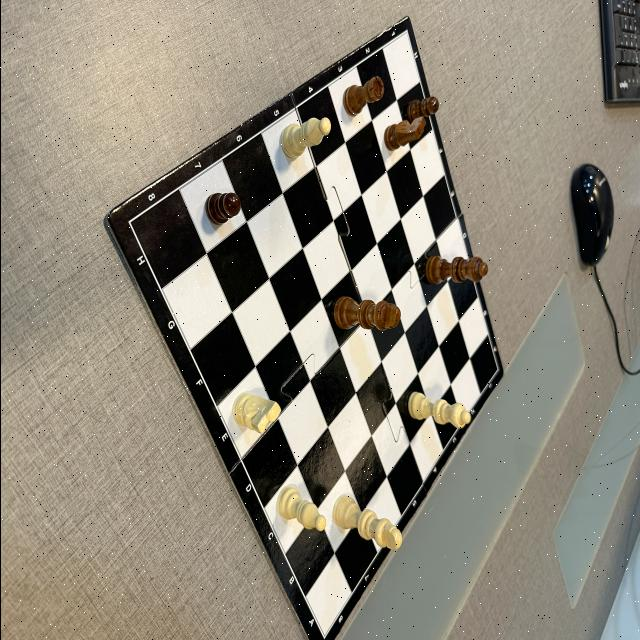Black-King: (332, 296, 400, 331)
Black-Knight: (382, 118, 426, 152)
Black-Pawn: (204, 192, 240, 226), (406, 96, 438, 118)
Black-Queen: (423, 256, 488, 286)
Black-Rook: (342, 76, 384, 117)
White-Bishop: (276, 486, 326, 532), (280, 116, 330, 158)
White-King: (332, 494, 402, 550)
White-Knight: (231, 392, 280, 434)
White-Queen: (407, 391, 470, 429)
